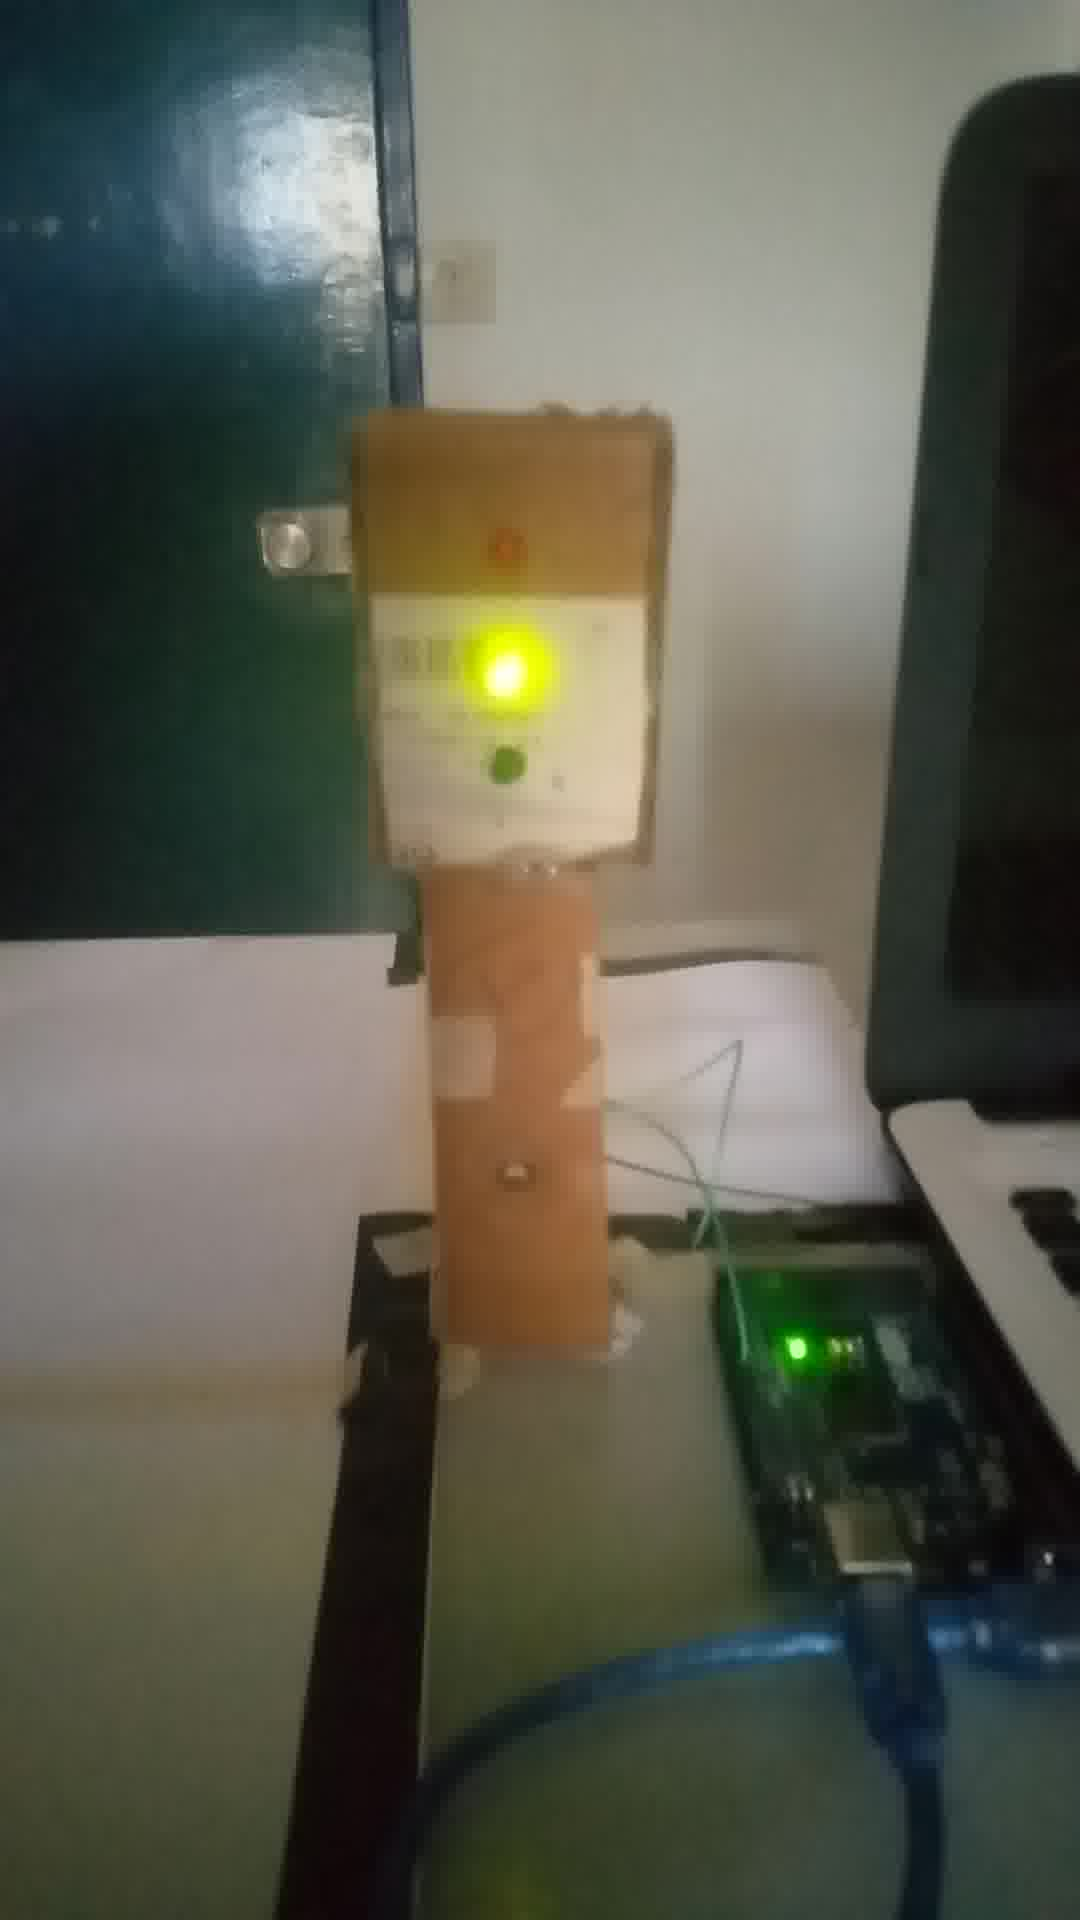yellow: (353, 431, 658, 857)
